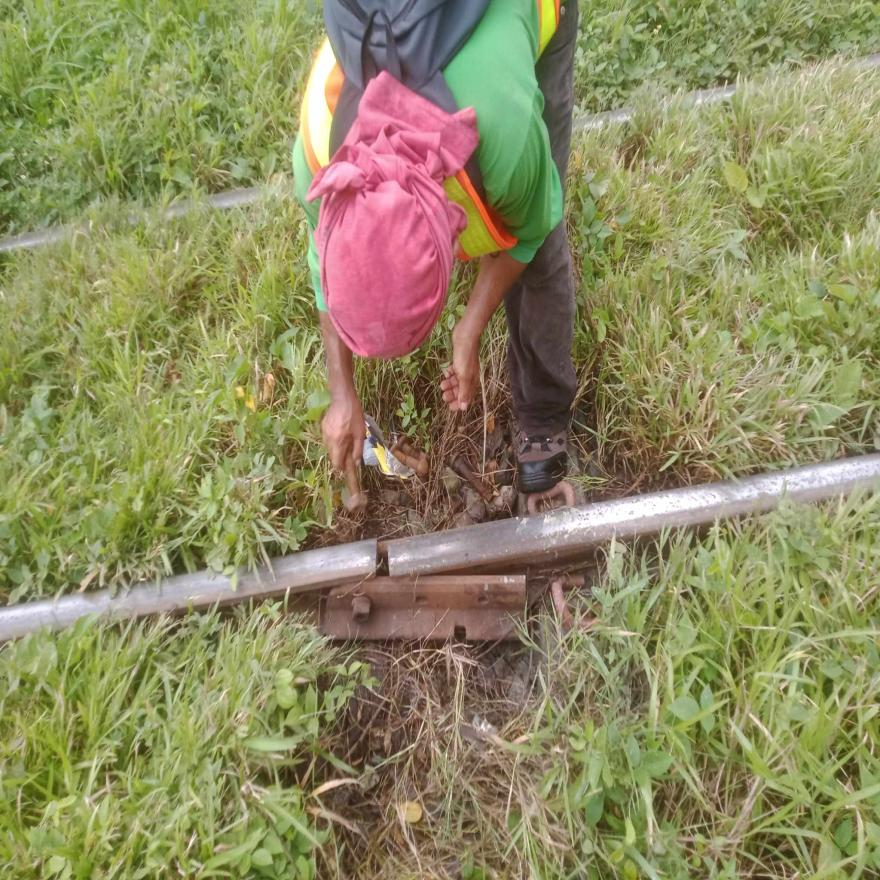railway-gap: (358, 514, 412, 598)
